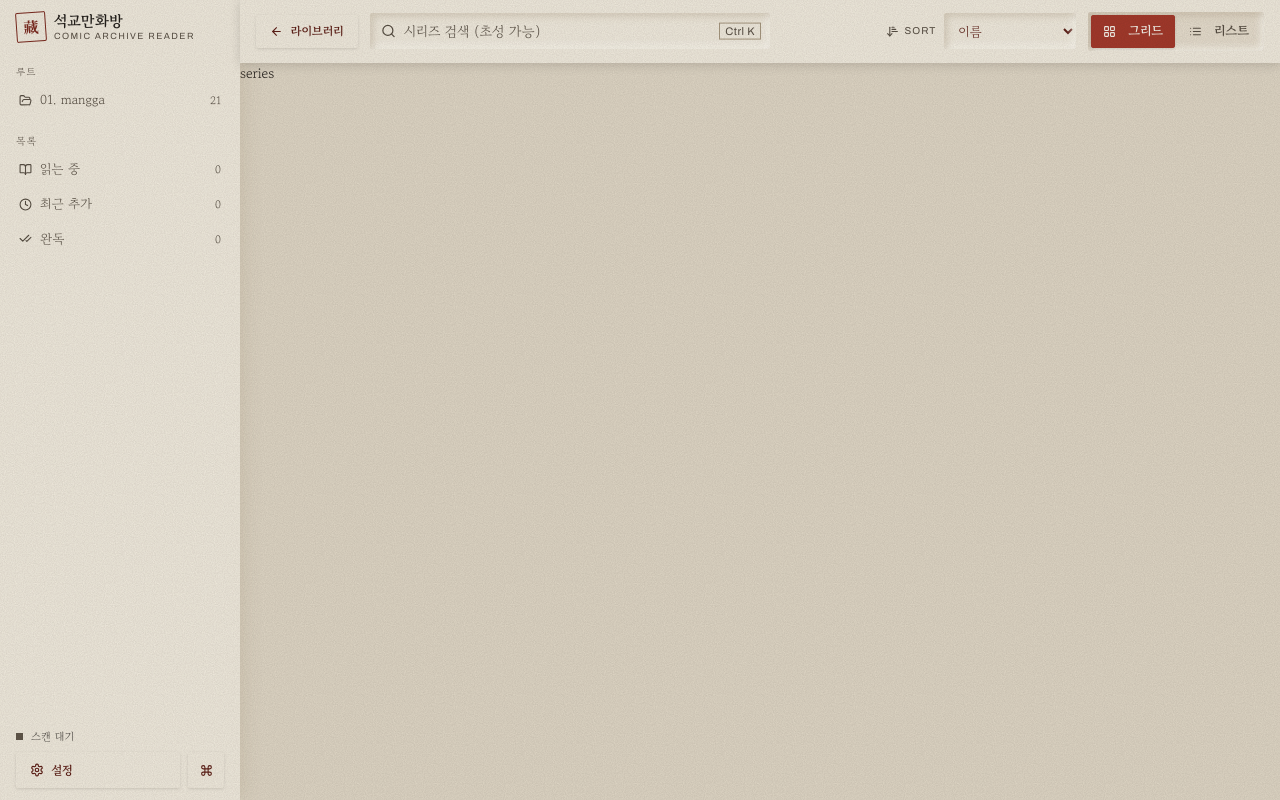
Test case: routing (ui-spec §3) › shows the back button only on a series route and returns to the library
This screenshot has width=1280, height=800.
expect the text "series" is shown: met, box top-left (240, 63), bottom-right (274, 83)
Click the button "라이브러리".
click(307, 31)  # box top-left (256, 15), bottom-right (358, 48)
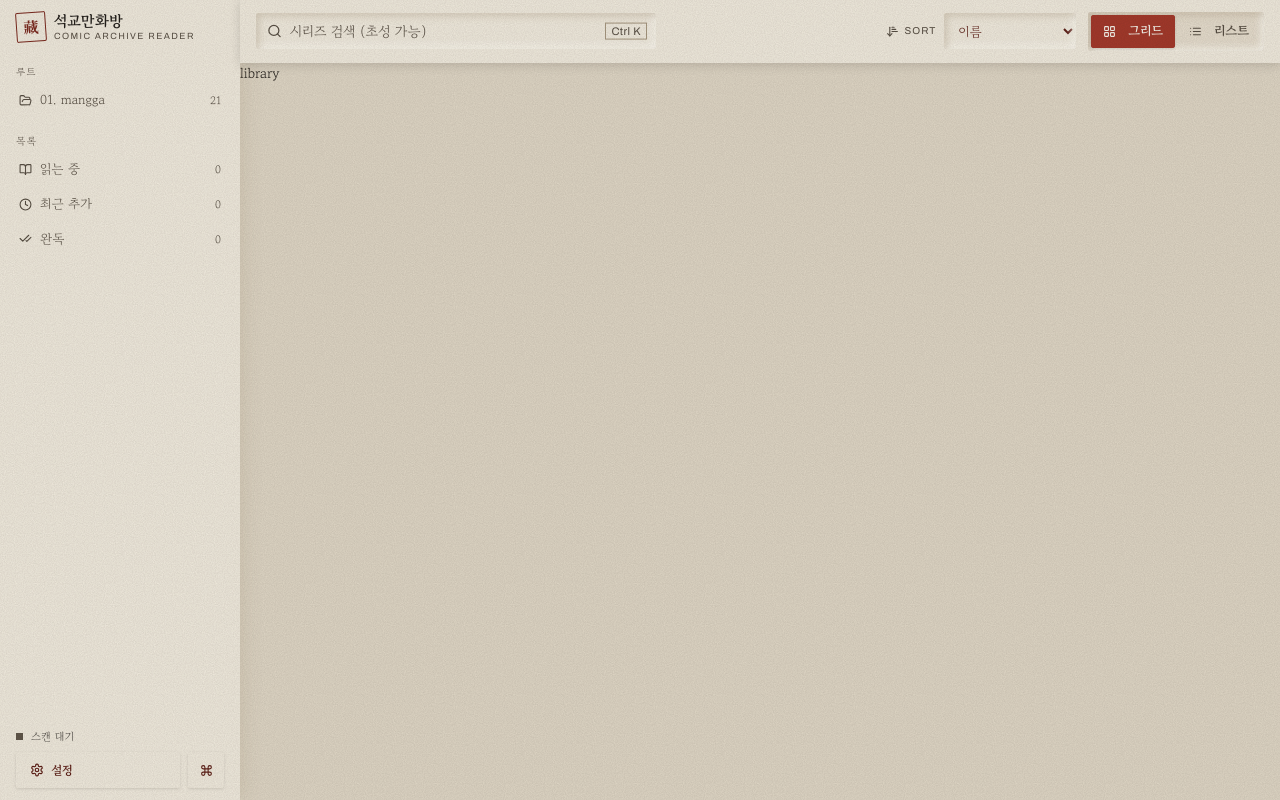
expect the text "library" is shown: met, box top-left (240, 63), bottom-right (279, 83)
expect the button "라이브러리" is gone: met
